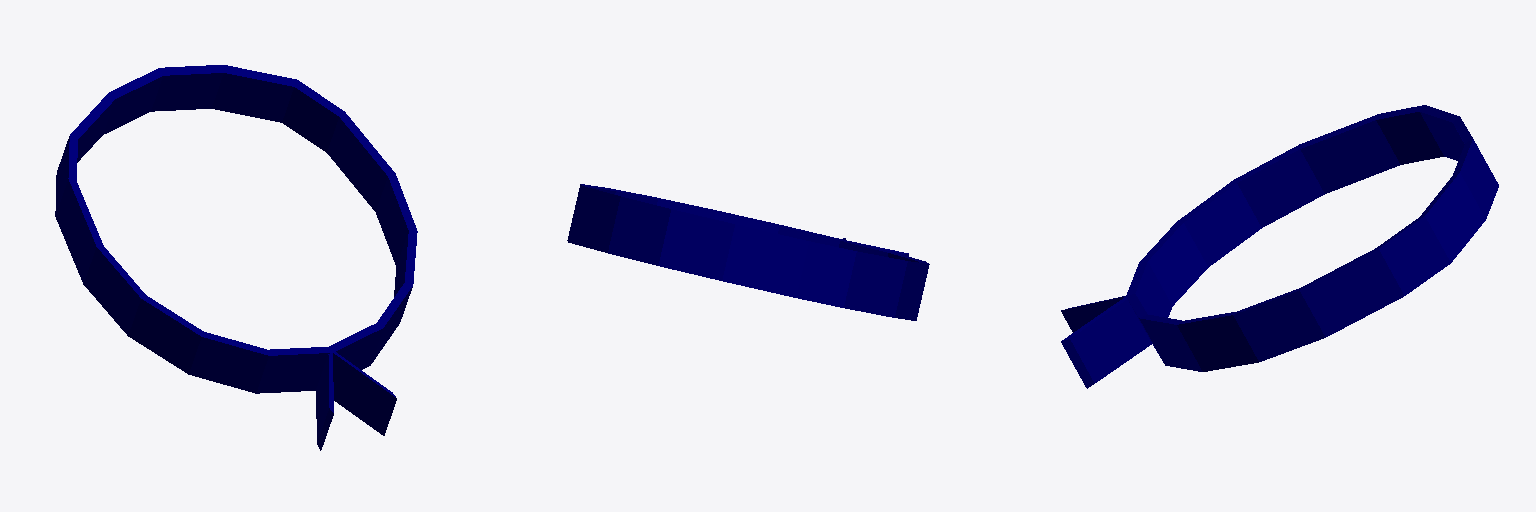
File: headband_basic.obj
3 views of the same model, side by side, from view 1: azimuth 30°, elevation 25°; view 2: azimuth 150°, elevation 25°; view 3: azimuth 270°, elevation 25° (orthographic).
Visible parts, largest first — view 1: 0; view 2: 0; view 3: 0.
Boxes of the visible parts, <box> form: 0: <box>55,65,417,450</box>; 0: <box>567,184,929,320</box>; 0: <box>1061,105,1498,388</box>.
Bounding box in the file's own units: 0.4725 × 0.3547 × 0.6001.